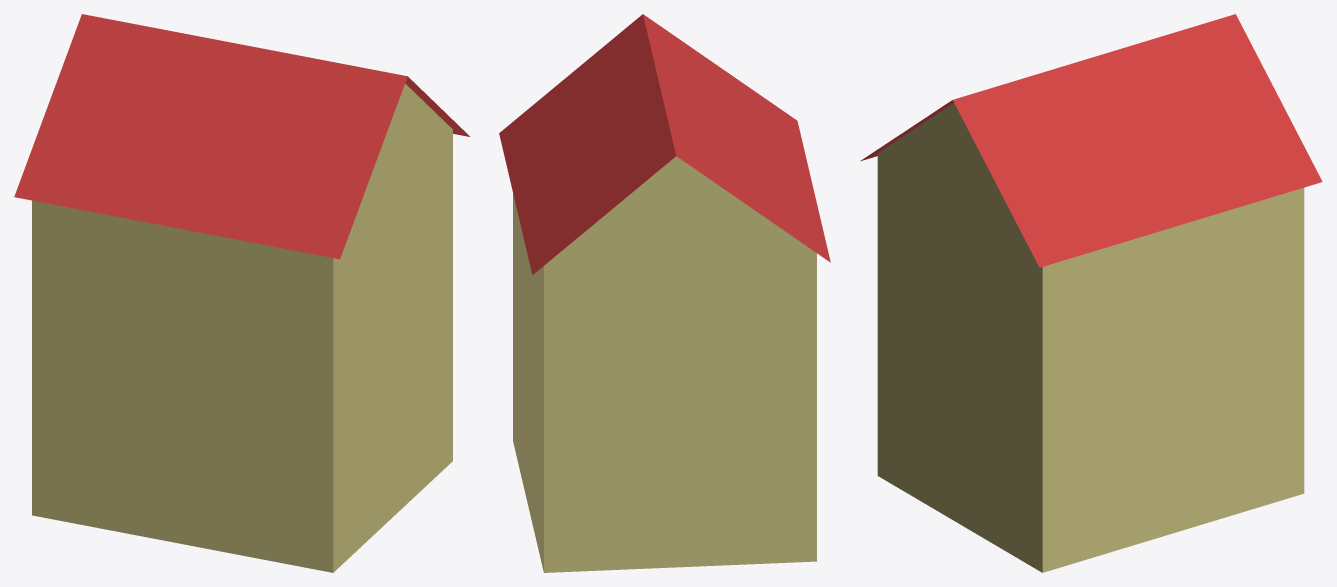
3 renders of one model, left to right at view 1: azimuth 30°, elevation 25°; view 2: azimuth 150°, elevation 25°; view 3: azimuth 270°, elevation 25°, orthographic. The views are drawn at different scales.
Bounding box in the file's own units: 17.17 × 17.5 × 17.91.
